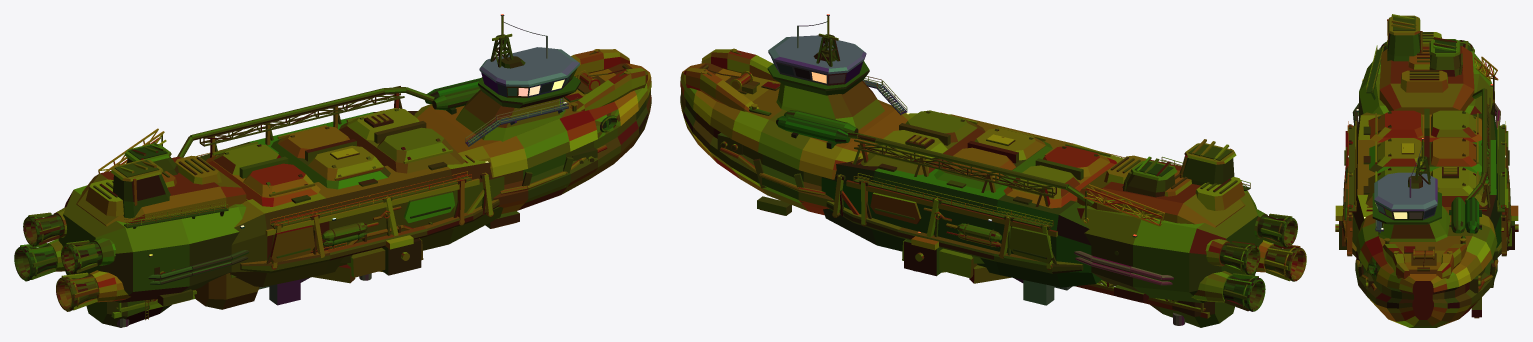
File: fleet.glb
3 views of the same model, side by side, from view 1: azimuth 30°, elevation 25°; view 2: azimuth 150°, elevation 25°; view 3: azimuth 270°, elevation 25° (orthographic). The views are drawn at different scales.
Parts seen in each view (by area): view 1: freighter_geo, breaker_geo, harbor_cradle_geo; view 2: freighter_geo, breaker_geo, harbor_cradle_geo; view 3: freighter_geo, breaker_geo.
Boxes of the visible parts, x1,y1,x2,y2 form: freighter_geo: [14, 14, 651, 311]; breaker_geo: [86, 235, 423, 327]; harbor_cradle_geo: [259, 277, 309, 305]; freighter_geo: [680, 14, 1306, 311]; breaker_geo: [902, 231, 1234, 327]; harbor_cradle_geo: [1014, 278, 1072, 305]; freighter_geo: [1342, 14, 1511, 327]; breaker_geo: [1335, 205, 1518, 250].
Size of the model in its own units: 150 by 53.48 by 44.4.
